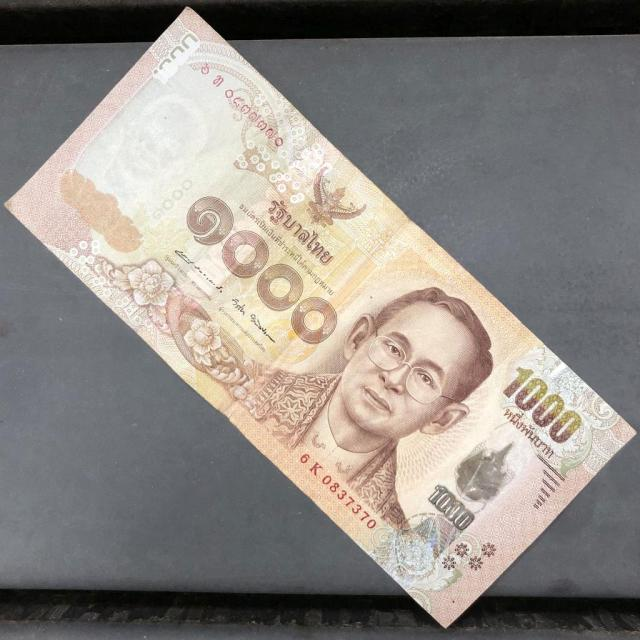THAI1000: (7, 8, 636, 627)
